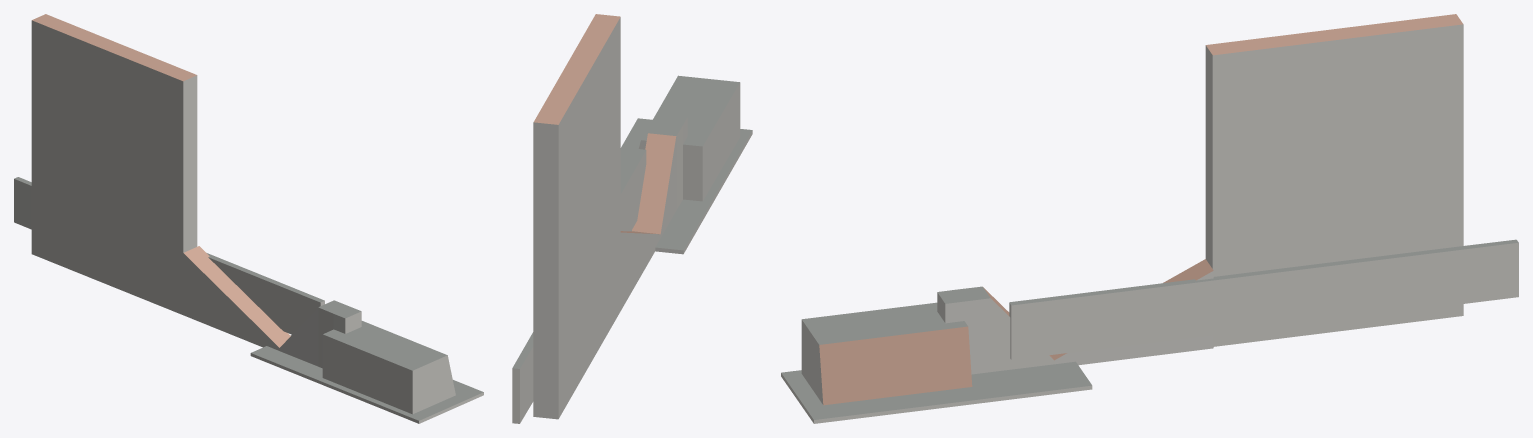
File: gridID_60.dae
The picture shows the model from 3 angles, left to right: view 1: azimuth 30°, elevation 25°; view 2: azimuth 150°, elevation 25°; view 3: azimuth 270°, elevation 25°; orthographic projection. The views are drawn at different scales.
Visible parts, largest first — view 1: model_gridID_60_w375502715; view 2: model_gridID_60_w375502715; view 3: model_gridID_60_w375502715.
Boxes of the visible parts, <box> form: model_gridID_60_w375502715: <box>14,14,483,423</box>; model_gridID_60_w375502715: <box>512,14,752,423</box>; model_gridID_60_w375502715: <box>781,14,1518,423</box>.
Bounding box in the file's own units: 6.53 × 17.2 × 7.5.
